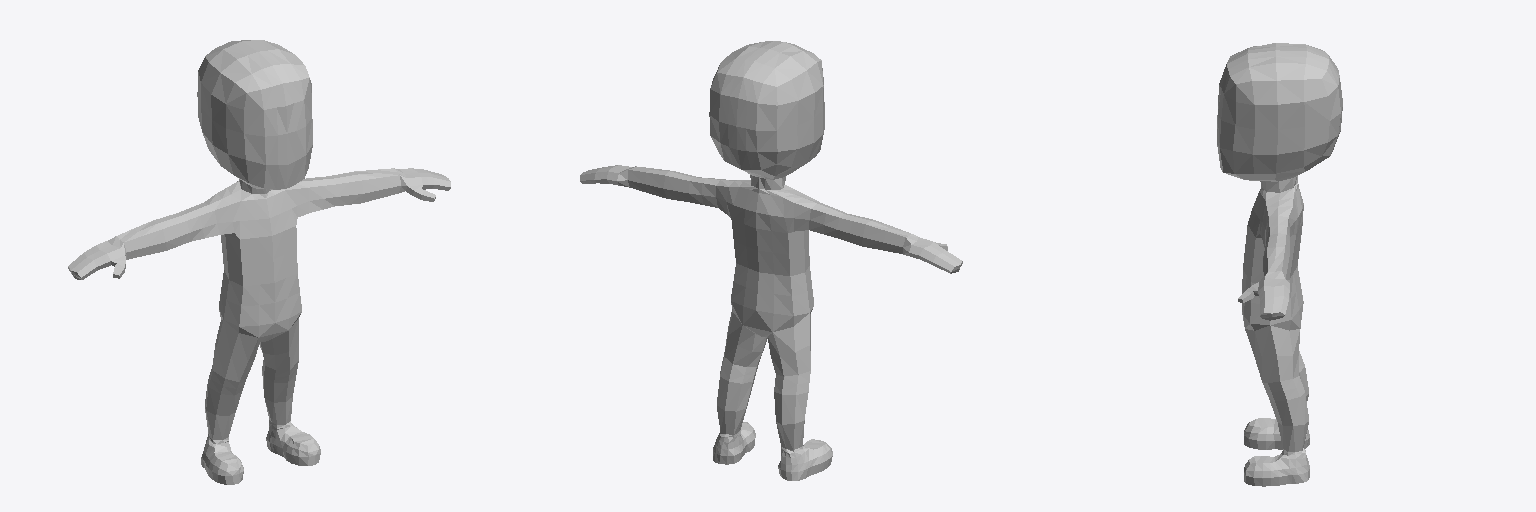
File: scammer.obj
The picture shows the model from 3 angles: view 1: azimuth 30°, elevation 25°; view 2: azimuth 150°, elevation 25°; view 3: azimuth 270°, elevation 25°; orthographic projection.
Parts seen in each view (by area): view 1: characterMedium; view 2: characterMedium; view 3: characterMedium.
Boxes of the visible parts, box(x1,y1,x2,y2) form: characterMedium: box(68, 40, 450, 484); characterMedium: box(580, 41, 962, 480); characterMedium: box(1217, 43, 1342, 486).
Size of the model in its own units: 362 by 376 by 105.